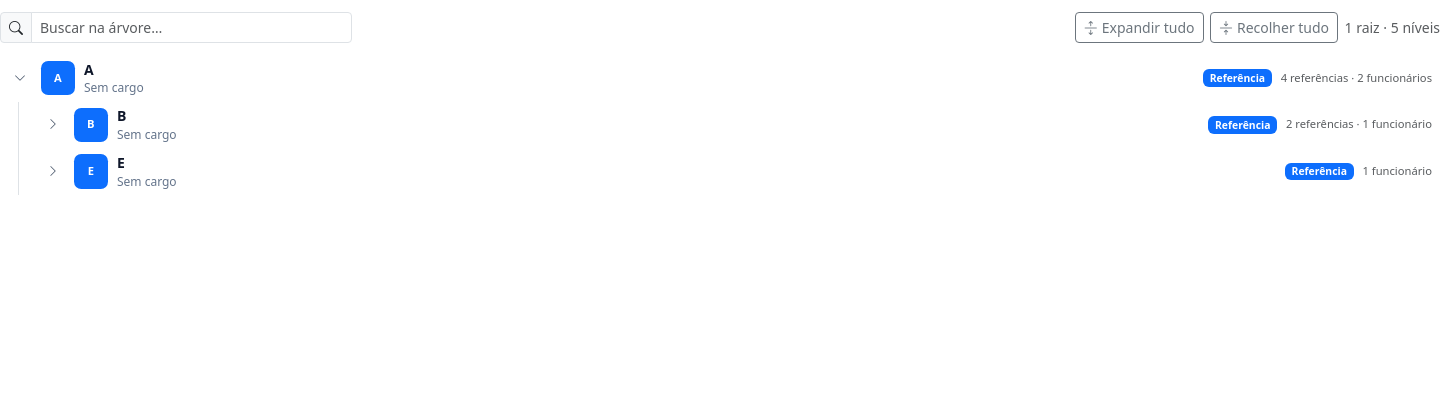
ReferenciaTree › recolhe e expande um ramo inteiro
The width and height of the screenshot is (1452, 398).
Click the button "Expandir tudo" at (1139, 28), box [1075,12,1204,43]
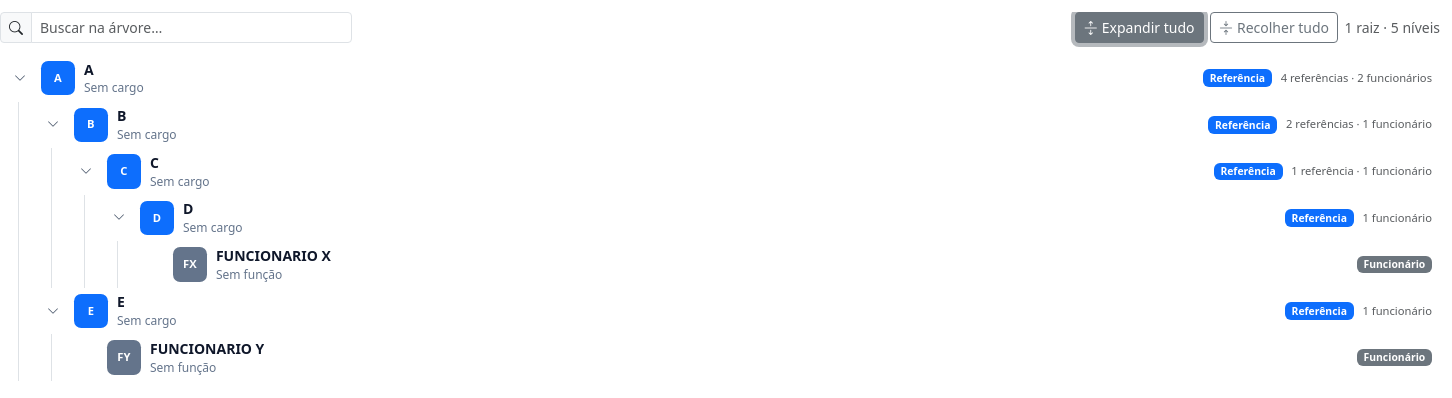
Result: the text "FUNCIONARIO X" is shown at [216,247,331,265]
Click the button named "Recolher indicações de B" at (53, 125), box [41,113,65,137]
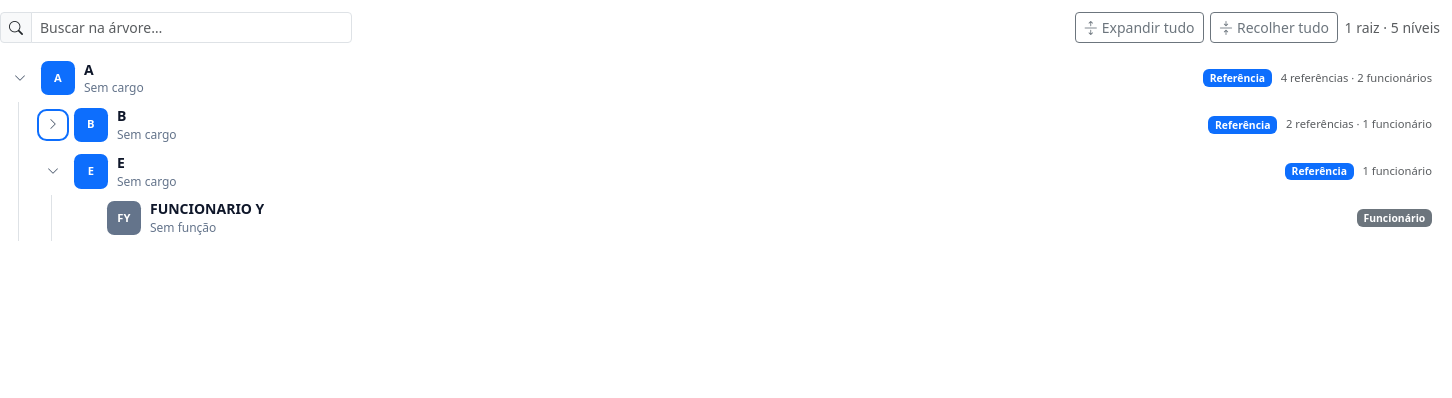
Expected: the 2nd text "B" is shown, [117,107,126,125]
Result: the button "FUNCIONARIO X" is gone
Click the button named "Expandir indicações de B" at (53, 125), box [41,113,65,137]
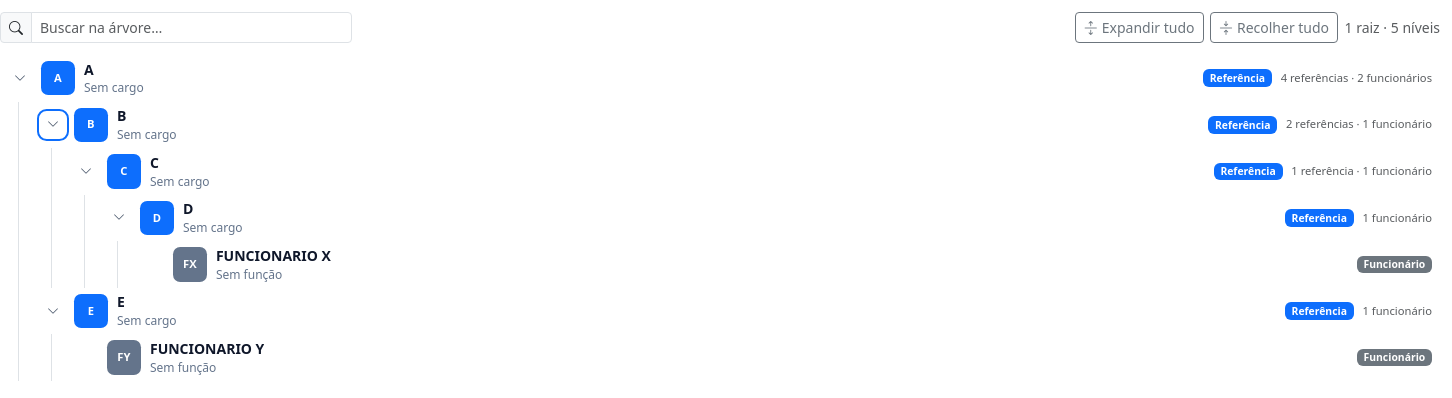
Result: the 2nd text "C" is shown at [150,154,159,172]
